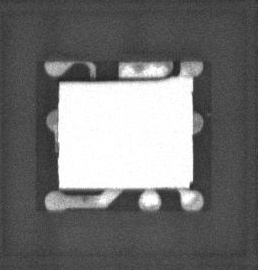DIE_BROKEN: (59, 77, 175, 84), (187, 179, 193, 188)
